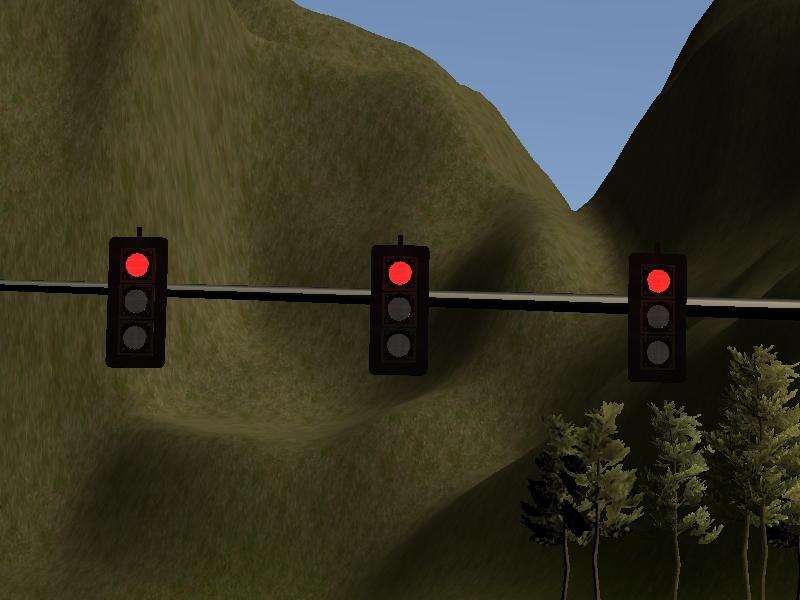red: (363, 240, 436, 381), (624, 247, 693, 387), (103, 235, 172, 373)
